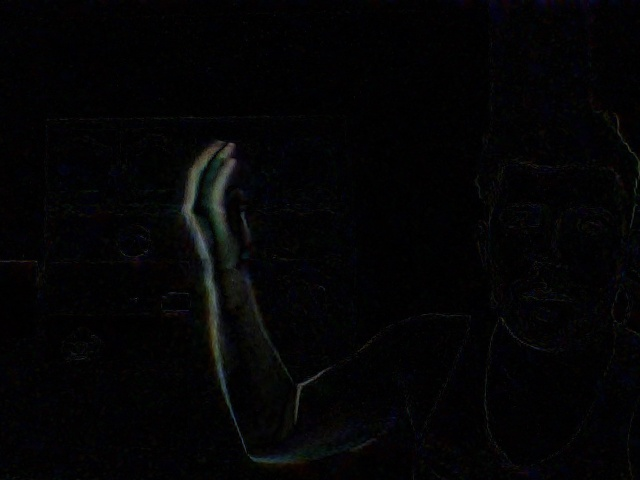arm_fo: (170, 133, 301, 443)
